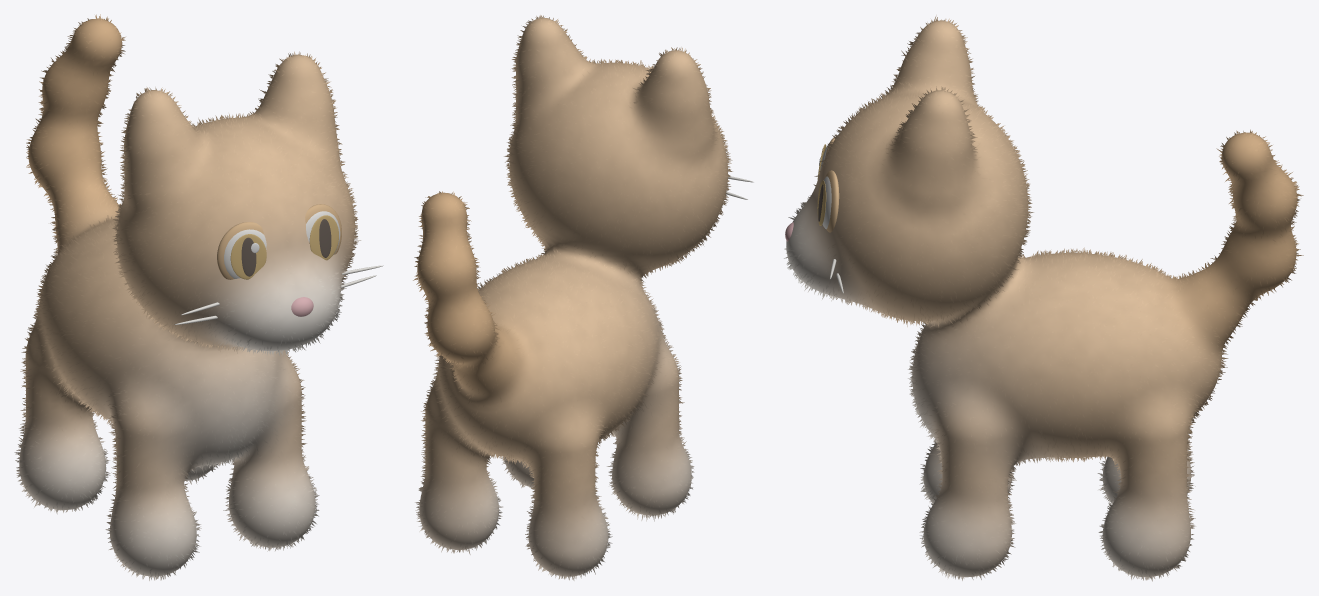
File: cat.glb
3 renders of one model, left to right at view 1: azimuth 30°, elevation 25°; view 2: azimuth 150°, elevation 25°; view 3: azimuth 270°, elevation 25°, orthographic. The views are drawn at different scales.
Visible parts, largest first — view 1: geometry_0; view 2: geometry_0; view 3: geometry_0.
Boxes of the visible parts, left/top/right/bottom form: geometry_0: left=14, top=14, right=383, bottom=580; geometry_0: left=413, top=15, right=753, bottom=580; geometry_0: left=784, top=15, right=1303, bottom=581.
Bounding box in the file's own units: 1.05 × 2.27 × 2.15.
